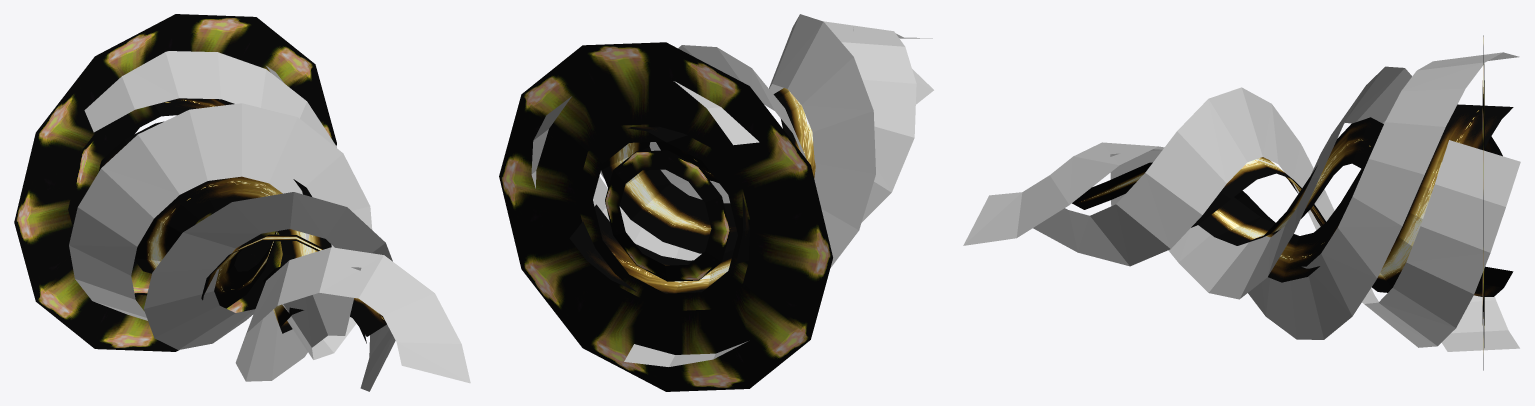
Rendered from tx_mogong3_fire_01.obj.
The picture shows the model from 3 angles, left to right: view 1: azimuth 30°, elevation 25°; view 2: azimuth 150°, elevation 25°; view 3: azimuth 270°, elevation 25°; orthographic projection. The views are drawn at different scales.
Visible parts, largest first — view 1: Plane02, Cylinder03, Plane03, Plane01, Plane05, Cylinder02, Plane04, Plane06; view 2: Cylinder03, Plane01, Plane03, Cylinder02, Plane04, Cylinder01, Plane05, Plane02, Plane06; view 3: Plane01, Plane03, Plane02, Plane04, Plane05, Plane06, Cylinder03.
Boxes of the visible parts, x1,y1,x2,y2 form: Plane02: (69, 103, 372, 359); Cylinder03: (14, 14, 336, 351); Plane03: (84, 51, 470, 383); Plane01: (144, 66, 395, 391); Plane05: (134, 176, 331, 273); Cylinder02: (68, 99, 234, 295); Plane04: (154, 98, 366, 343); Plane06: (99, 121, 386, 336); Cylinder03: (499, 42, 832, 391); Plane01: (531, 14, 933, 267); Plane03: (600, 21, 932, 222); Cylinder02: (576, 124, 754, 311); Plane04: (601, 88, 815, 253); Cylinder01: (605, 150, 730, 281); Plane05: (569, 204, 734, 293); Plane02: (624, 27, 853, 366); Plane06: (656, 141, 749, 263); Plane01: (1033, 87, 1520, 347); Plane03: (963, 52, 1519, 339); Plane02: (1110, 66, 1519, 351); Plane04: (1126, 104, 1513, 292); Plane05: (1198, 117, 1513, 296); Plane06: (1072, 136, 1502, 282); Cylinder03: (1483, 35, 1484, 370).
Bounding box in the file's own units: 101 × 101 × 148.
